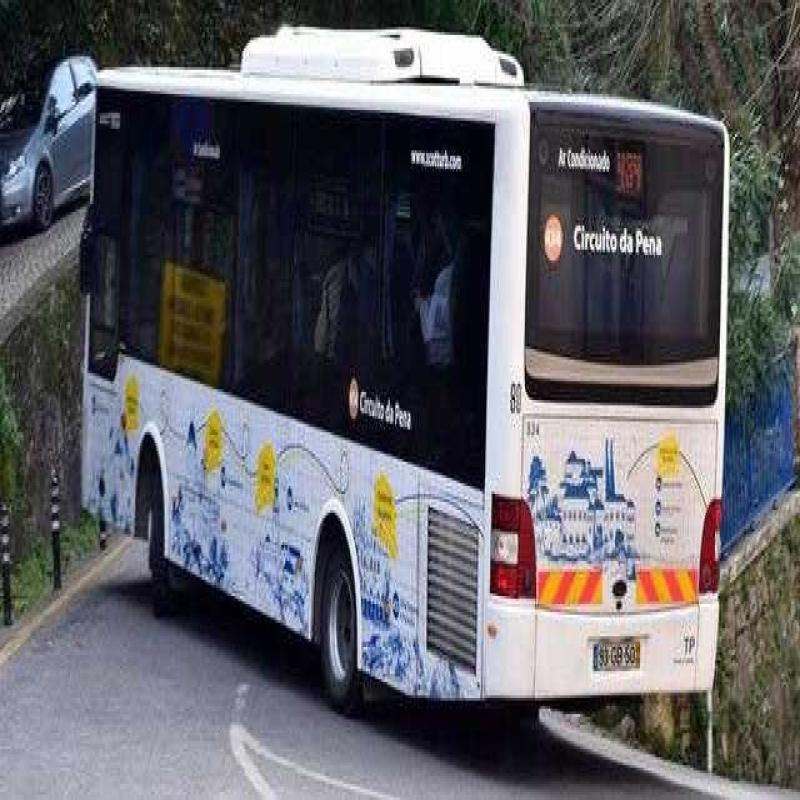bus: (69, 31, 749, 782)
